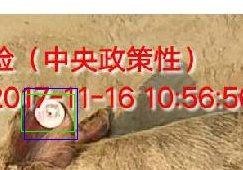text: (21, 94, 74, 131)
